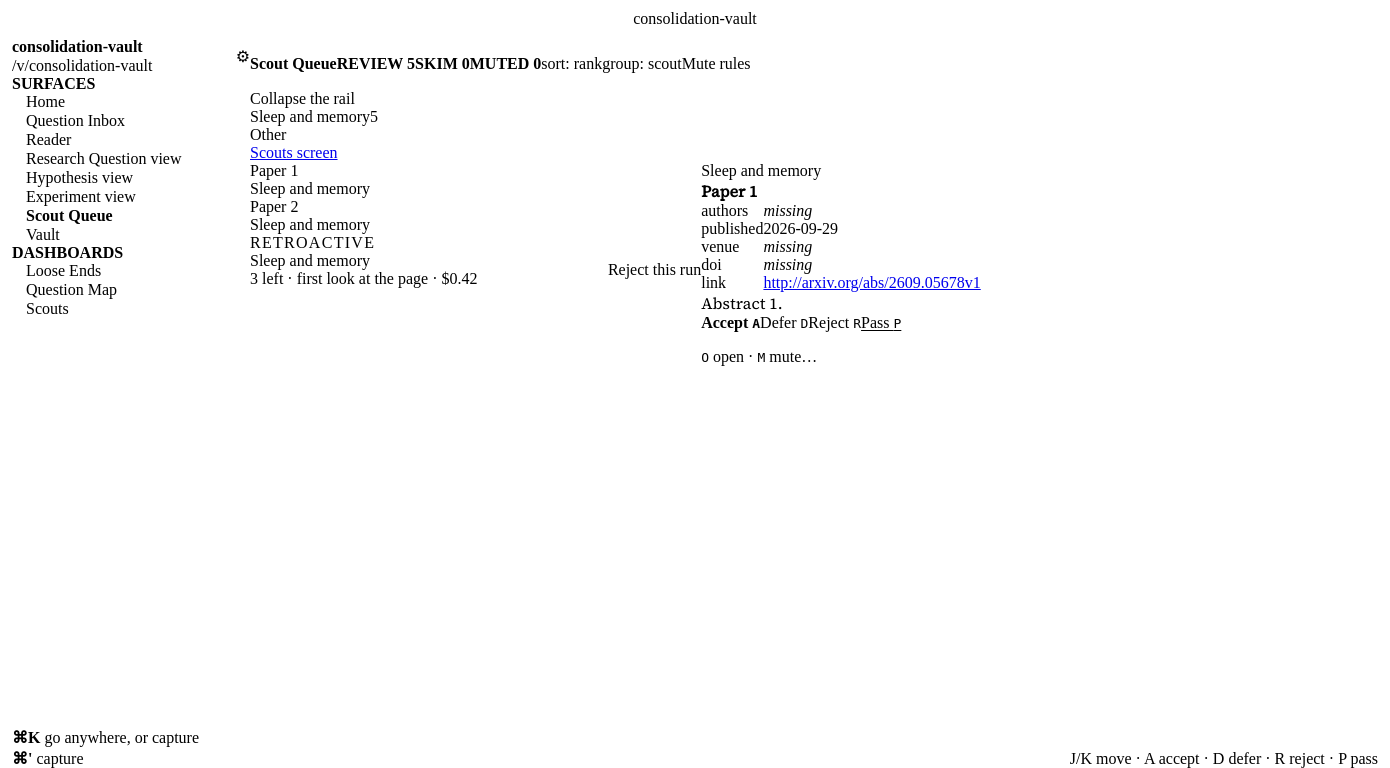
Retroactive batches › leaves a Scout's batch out of another Scout's filter
Click the button "Other": point(332, 135) [250,126,414,144]
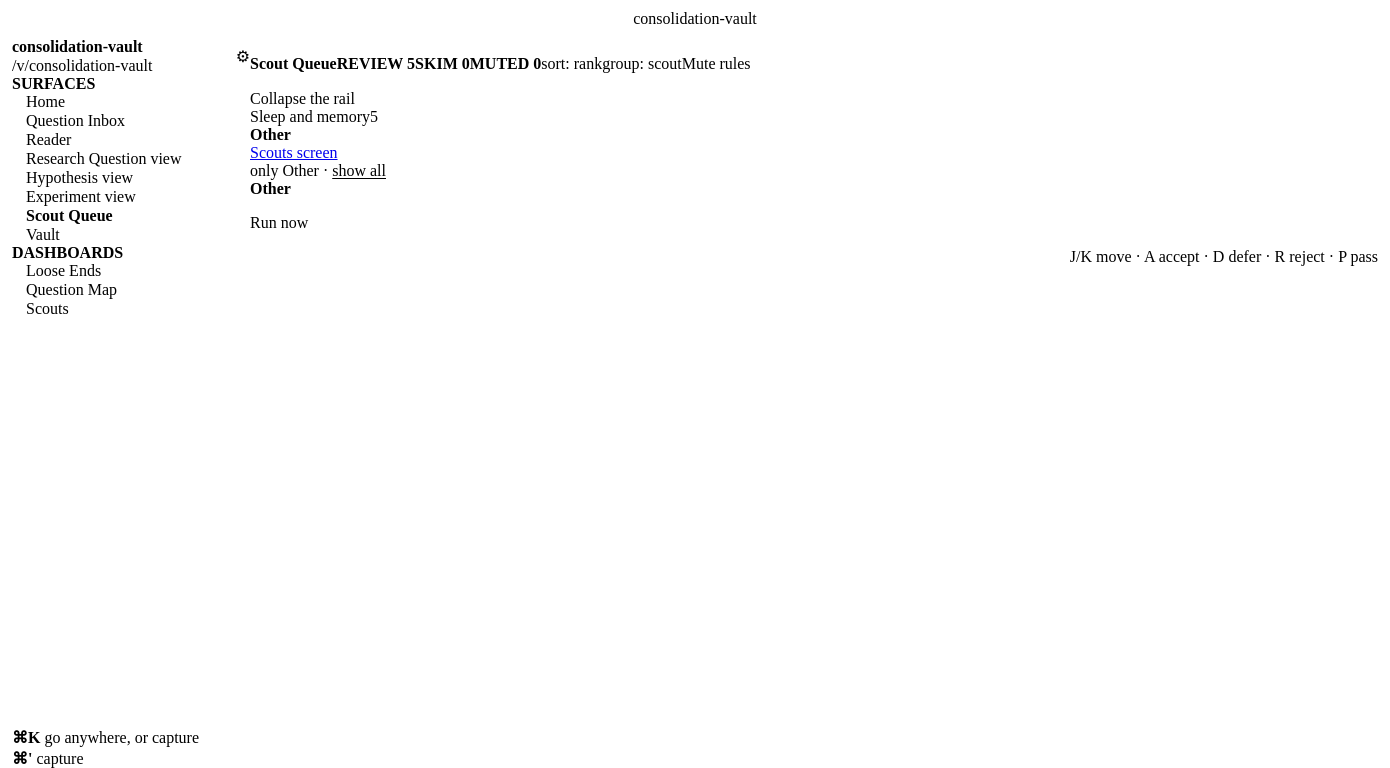
Result: the heading "Retroactive" is gone
